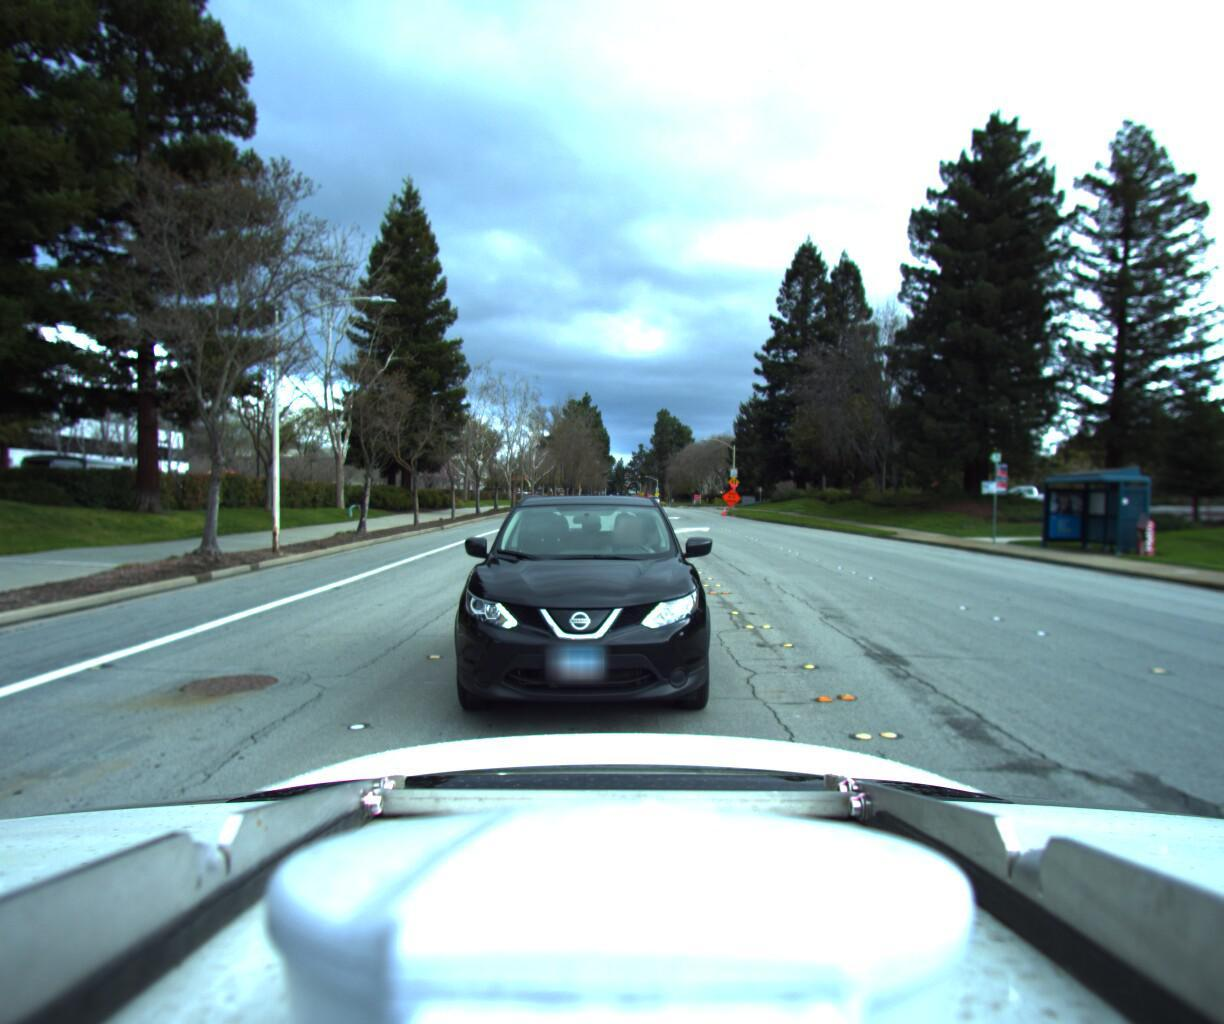car: (437, 482, 721, 744), (507, 496, 546, 520)
